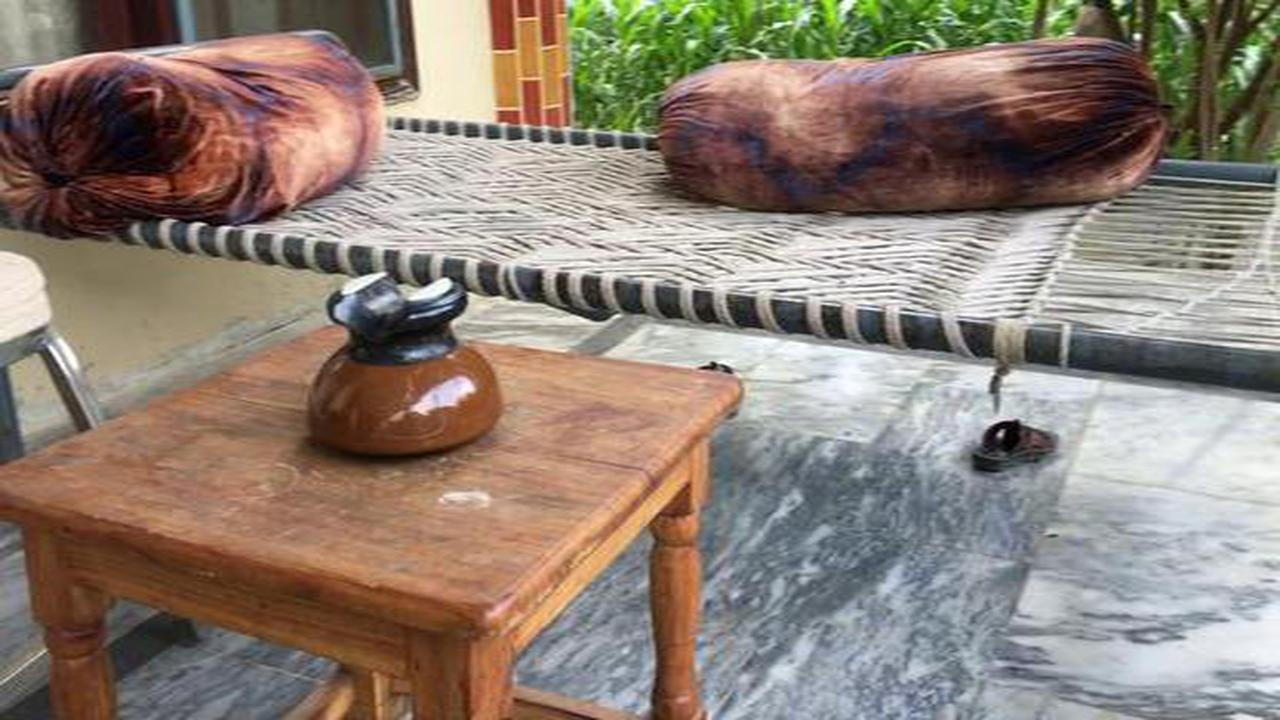insulator_pin: (290, 256, 521, 466)
